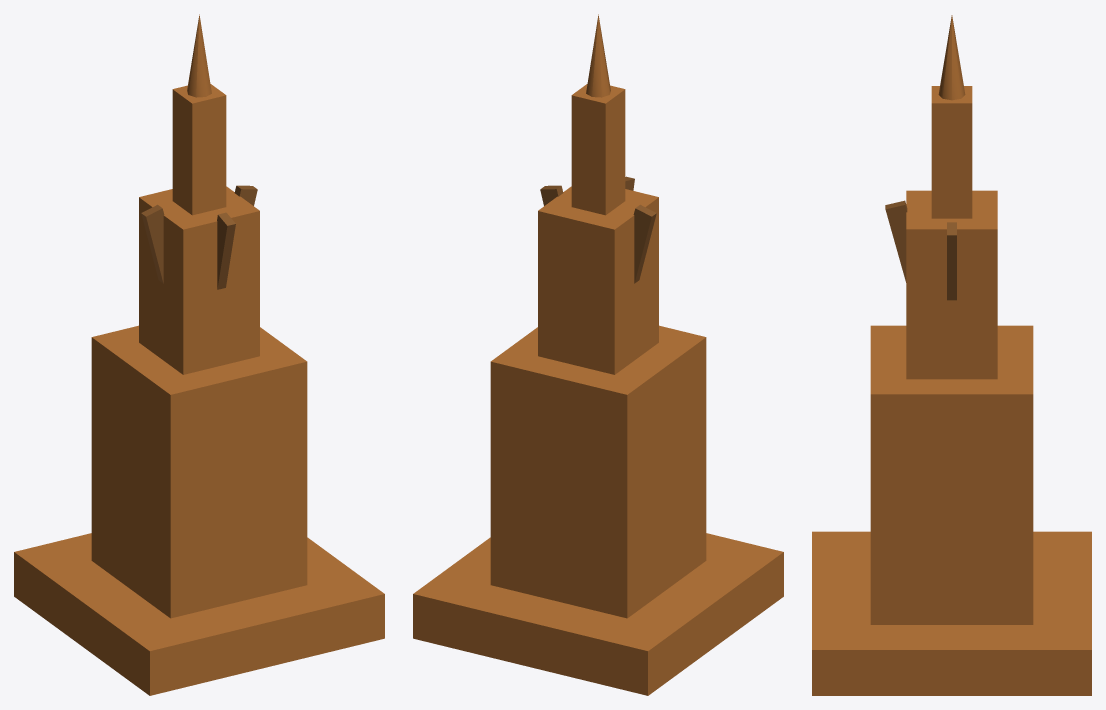
Rendered from eiffel.glb.
The picture shows the model from 3 angles, left to right: view 1: azimuth 30°, elevation 25°; view 2: azimuth 150°, elevation 25°; view 3: azimuth 270°, elevation 25°; orthographic projection. The views are drawn at different scales.
Size of the model in its own units: 0.55 by 1.35 by 0.55.
